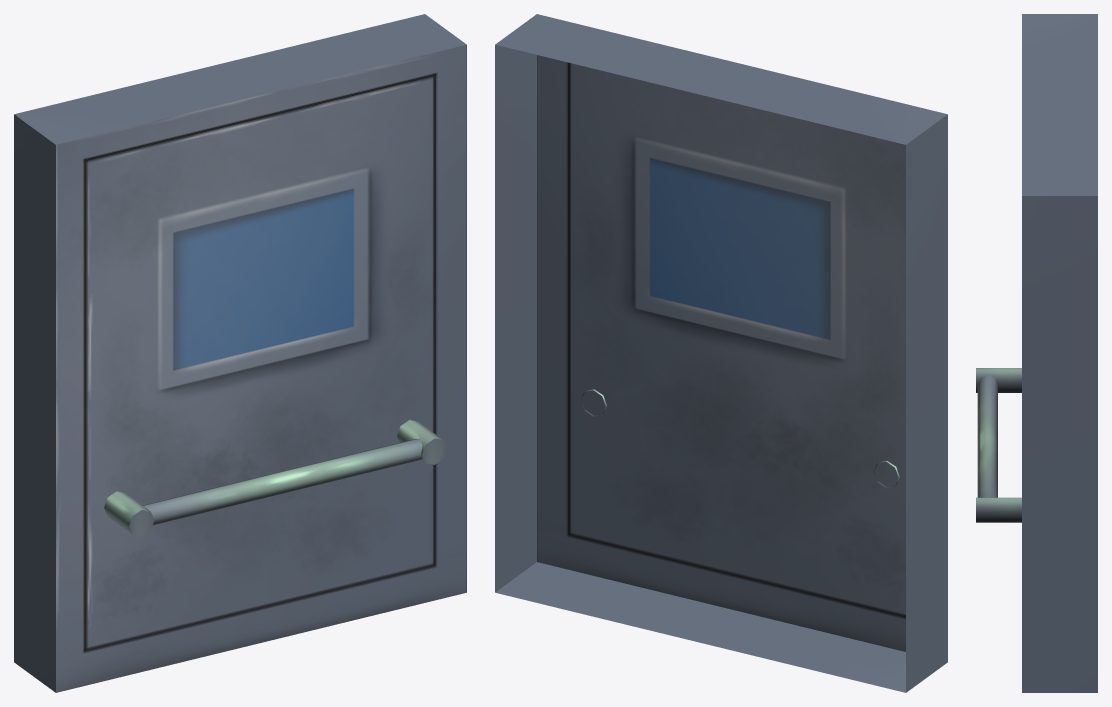
File: Small_Door.fbx
The picture shows the model from 3 angles, left to right: view 1: azimuth 30°, elevation 25°; view 2: azimuth 150°, elevation 25°; view 3: azimuth 270°, elevation 25°; orthographic projection. The views are drawn at different scales.
Visible parts, largest first — view 1: pCube23, pCylinder21, pCylinder24, pCylinder25; view 2: pCube23; view 3: pCube23, pCylinder21, pCylinder25, pCylinder24.
Part boxes in pixels (x1,y1,x2,y2): pCube23: (14,14,466,692); pCylinder21: (142,438,422,524); pCylinder24: (104,491,154,536); pCylinder25: (397,420,447,464); pCube23: (495,14,947,692); pCube23: (1022,14,1097,692); pCylinder21: (977,374,997,497); pCylinder25: (976,497,1021,522); pCylinder24: (976,368,1021,392).
Bounding box in the file's own units: 95.59 × 122 × 27.05.
